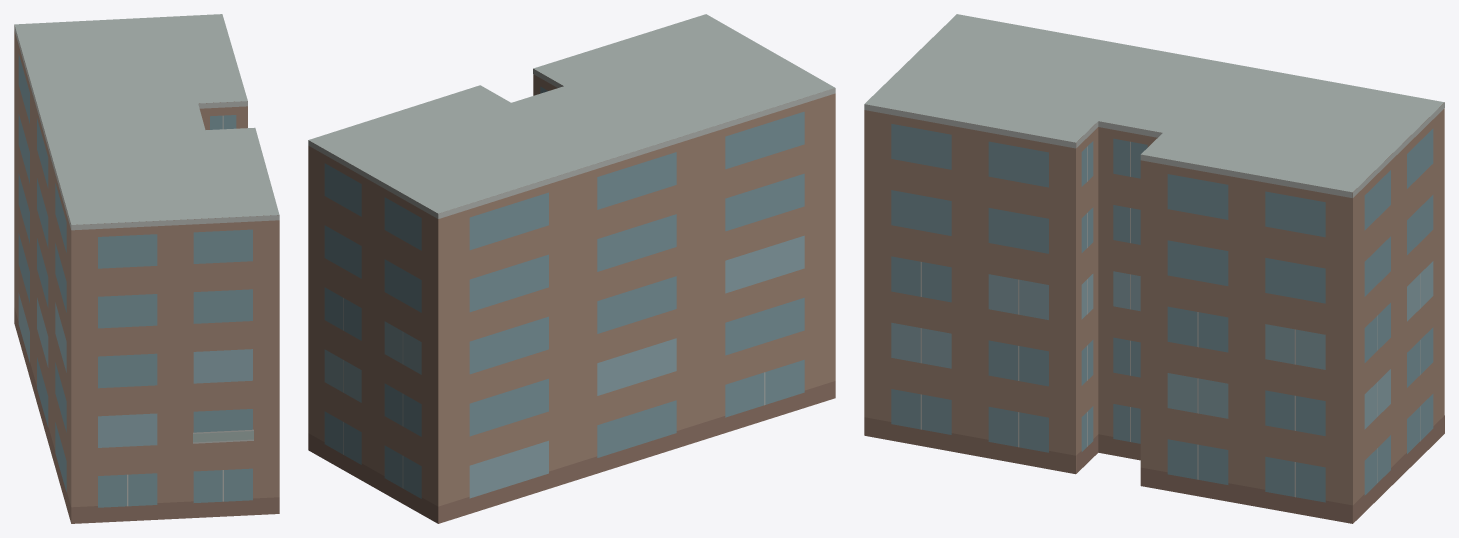
Rendered from survey-upis-32567105.glb.
3 renders of one model, left to right at view 1: azimuth 30°, elevation 25°; view 2: azimuth 150°, elevation 25°; view 3: azimuth 270°, elevation 25°, orthographic. The views are drawn at different scales.
Parts seen in each view (by area): view 1: survey-upis-32567105.tmp; view 2: survey-upis-32567105.tmp; view 3: survey-upis-32567105.tmp.
Part boxes in pixels (box(x1,y1,x2,y2)): survey-upis-32567105.tmp: box(14, 14, 279, 523); survey-upis-32567105.tmp: box(308, 14, 835, 523); survey-upis-32567105.tmp: box(864, 14, 1444, 523).
Bounding box in the file's own units: 15.93 × 13.8 × 21.91.
